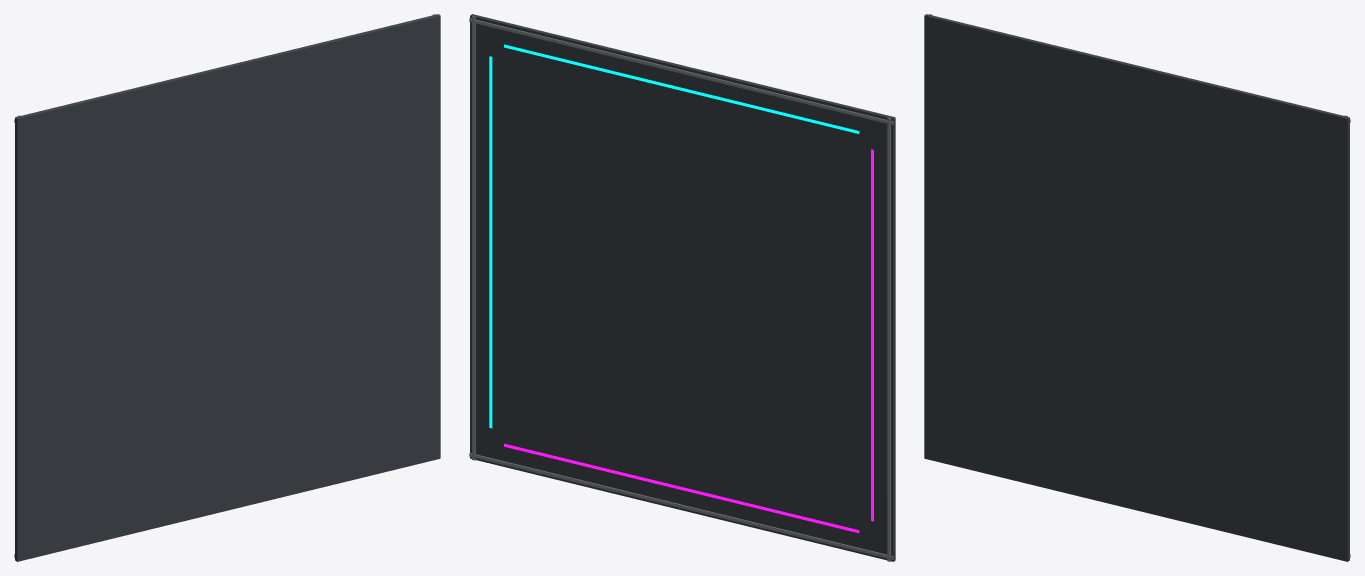
File: CyberArenaFloorPlate.fbx
The picture shows the model from 3 angles, left to right: view 1: azimuth 30°, elevation 25°; view 2: azimuth 150°, elevation 25°; view 3: azimuth 330°, elevation 25°; orthographic projection.
Parts seen in each view (by area): view 1: flat full room floor panel; view 2: flat full room floor panel, very low floor outer rail z.001, very low floor outer rail z, very low floor outer rail x.001, very low floor outer rail x, flush side perimeter floor light, flush long perimeter floor light.001, flush long perimeter floor light, flush side perimeter floor light.001; view 3: flat full room floor panel.
Part boxes in pixels (<box>): flat full room floor panel: <box>15,14,440,561</box>; flat full room floor panel: <box>470,14,895,561</box>; very low floor outer rail z.001: <box>469,453,893,559</box>; very low floor outer rail z: <box>469,18,893,124</box>; very low floor outer rail x.001: <box>887,117,890,561</box>; very low floor outer rail x: <box>472,16,475,460</box>; flush side perimeter floor light: <box>489,56,492,428</box>; flush long perimeter floor light.001: <box>504,443,859,533</box>; flush long perimeter floor light: <box>504,44,859,133</box>; flush side perimeter floor light.001: <box>871,149,873,521</box>; flat full room floor panel: <box>924,14,1349,561</box>.
Bounding box in the file's own units: 400 × 400 × 4.55.
